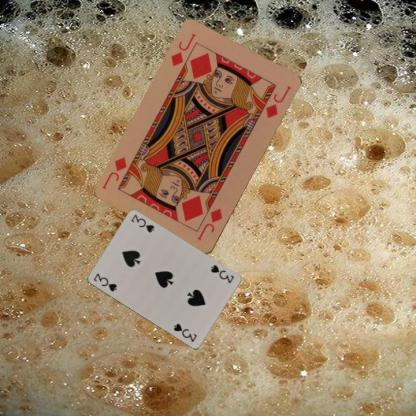3s: (91, 270, 118, 293), (208, 262, 235, 285)
Jd: (194, 206, 224, 242), (168, 31, 197, 68)
